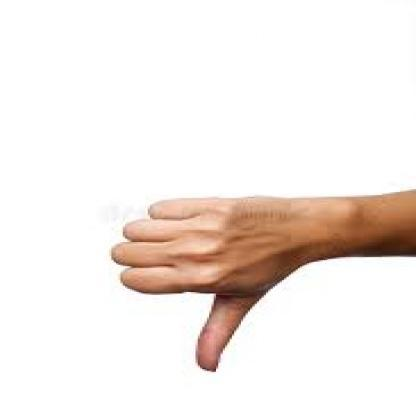thumb_down: (104, 190, 304, 374)
